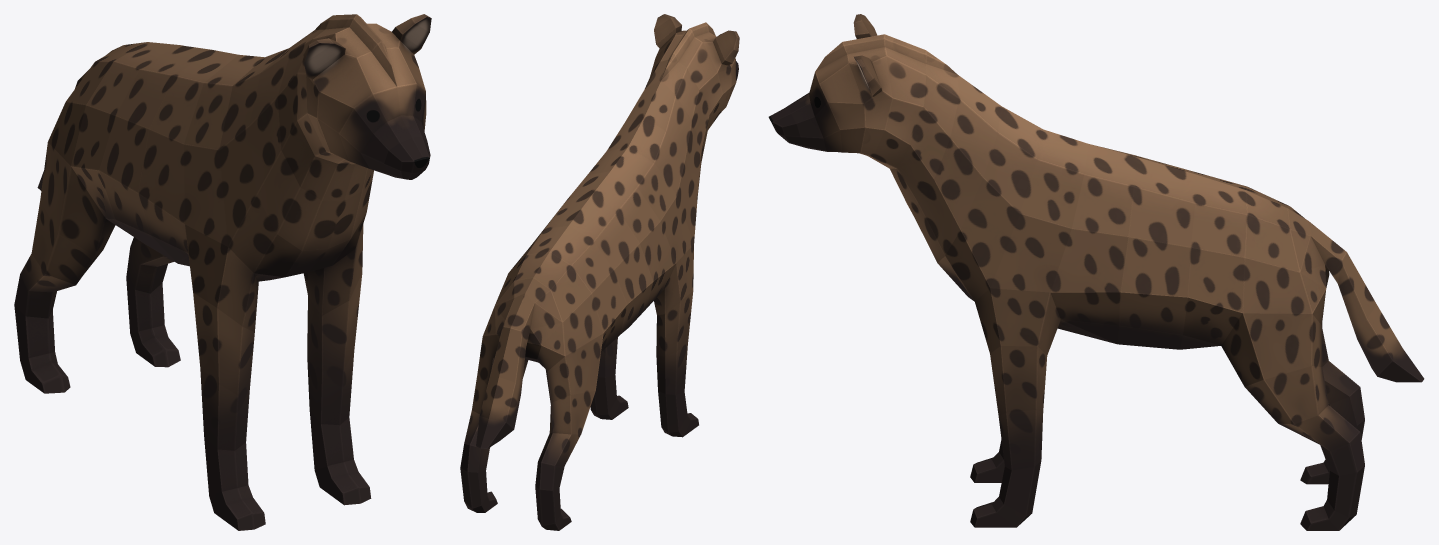
The model's file is spotted-hyena.glb.
3 views of the same model, side by side, from view 1: azimuth 30°, elevation 25°; view 2: azimuth 150°, elevation 25°; view 3: azimuth 270°, elevation 25° (orthographic). The views are drawn at different scales.
Parts seen in each view (by area): view 1: Object_2; view 2: Object_2; view 3: Object_2.
Boxes of the visible parts, x1=… form: Object_2: x1=14, y1=14, x2=431, y2=530; Object_2: x1=460, y1=14, x2=739, y2=530; Object_2: x1=768, y1=14, x2=1424, y2=530.
Bounding box in the file's own units: 1.09 × 3.43 × 4.36.
Materials: 1 (1 with a texture image).
